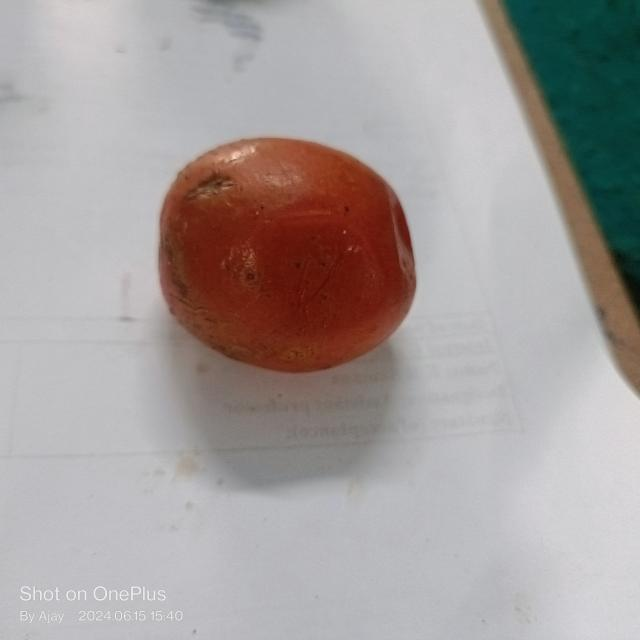Botrytis: (192, 169, 231, 202)
